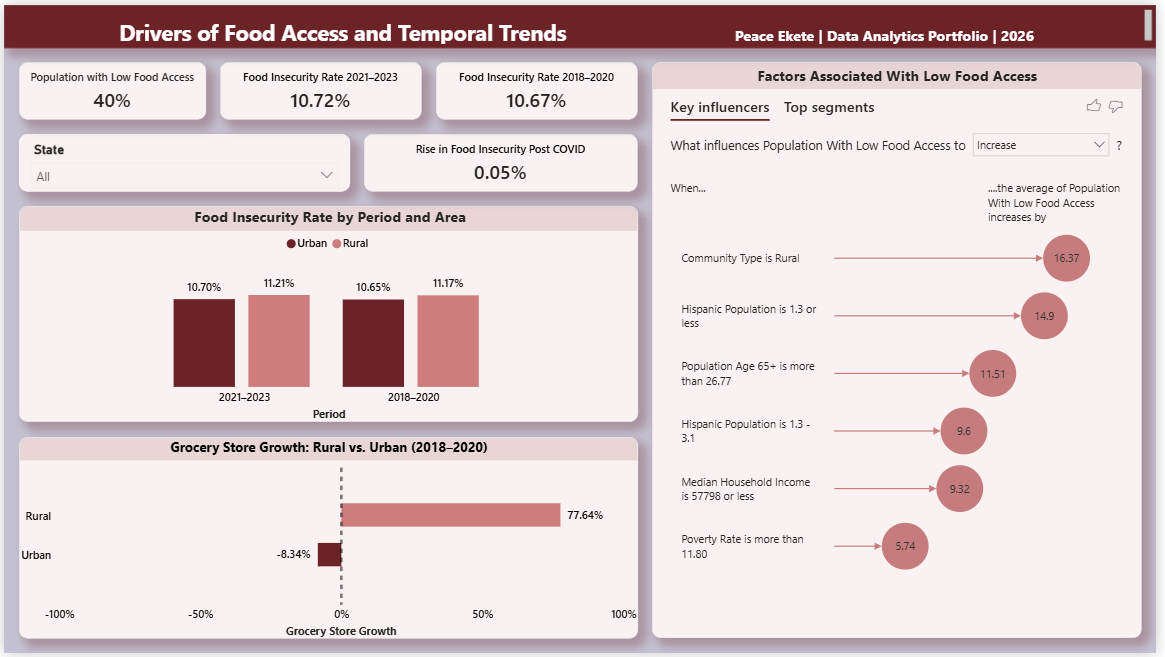

The page's visual inventory and layout, read from the dashboard file:
{"tool":"powerbi","page":{"name":"Page 5_food_access_trends","canvas":[1280,720],"ordinal":4},"visuals":[{"type":"slicer","fields":{"Values":["State_Lookup.State_Full"]},"box":[0,64,112,80],"z":0},{"type":"clusteredColumnChart","fields":{"Series":["master_county_final.Urban_Rural"],"Category":["Time_Period.Period"],"Y":["Time_Period.FI_By_Period"]},"box":[16,528,576,176],"z":1000},{"type":"clusteredBarChart","title":"Food Store Growth in Urban and Rural Communities (2018–2020)","fields":{"Category":["Store Growth.Area"],"Y":["Store Growth.Store_Growth"]},"box":[608,528,656,176],"z":2000},{"type":"cardVisual","fields":{"Data":["master_county_final.National_FI_Change"]},"box":[1008,64,256,80],"z":3000},{"type":"keyDriversVisual","fields":{"Target":["master_county_final.PCT_Low_Access_1Mile"],"ExplainBy":["master_county_final.PCT_Poverty","master_county_final.PCT_Hispanic","master_county_final.PCT_Black","master_county_final.PCT_Uninsured","master_county_final.Median_HH_Income","master_county_final.Urban_Rural","master_county_final.PCT_65_Year_Plus"]},"box":[608,160,656,352],"z":4000},{"type":"treemap","title":"Which States Face the Highest Combined Food Access and Income Burden?","fields":{"Values":["master_county_final.Access-Income Burden"],"Group":["master_county_final.State"]},"box":[16,160,576,352],"z":5000},{"type":"cardVisual","fields":{"Data":["master_county_final.Post_COVID_FI"]},"box":[384,64,288,80],"z":6000},{"type":"cardVisual","fields":{"Data":["master_county_final.Pre_COVID_FI"]},"box":[688,64,304,80],"z":7000},{"type":"cardVisual","fields":{"Data":["master_county_final.Weighted_Avg_LowFoodAccess"]},"box":[128,64,240,80],"z":8000},{"type":"textbox","box":[0,0,1280,48],"z":9000}]}

Visuals, with their boxes in screenshot pixels (x1, y1, x2, y2), scaled from the page's 1280x720 canvas onto the 1165x657 screenshot:
slicer - State_Lookup.State_Full: crop(0, 58, 102, 131)
clusteredColumnChart - master_county_final.Urban_Rural x Time_Period.Period: crop(15, 482, 539, 642)
"Food Store Growth in Urban and Rural Communities (2018–2020)" clusteredBarChart: crop(553, 482, 1150, 642)
cardVisual - master_county_final.National_FI_Change: crop(917, 58, 1150, 131)
keyDriversVisual - master_county_final.PCT_Low_Access_1Mile x master_county_final.PCT_Poverty: crop(553, 146, 1150, 467)
"Which States Face the Highest Combined Food Access and Income Burden?" treemap: crop(15, 146, 539, 467)
cardVisual - master_county_final.Post_COVID_FI: crop(350, 58, 612, 131)
cardVisual - master_county_final.Pre_COVID_FI: crop(626, 58, 903, 131)
cardVisual - master_county_final.Weighted_Avg_LowFoodAccess: crop(116, 58, 335, 131)
textbox: crop(0, 0, 1164, 44)
